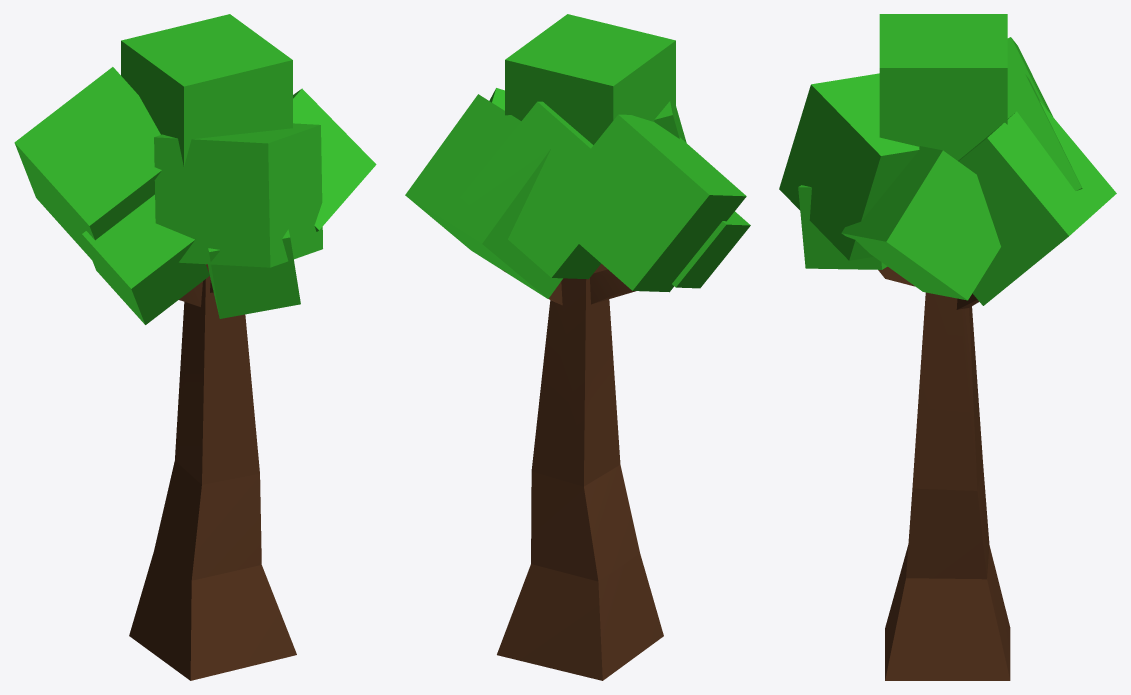
Rendered from Default_Tree.fbx.
3 renders of one model, left to right at view 1: azimuth 30°, elevation 25°; view 2: azimuth 150°, elevation 25°; view 3: azimuth 270°, elevation 25°, orthographic. The views are drawn at different scales.
Parts seen in each view (by area): view 1: Box012; view 2: Box012; view 3: Box012.
Boxes of the visible parts, <box> form: Box012: <box>14,14,376,680</box>; Box012: <box>405,14,750,680</box>; Box012: <box>779,14,1116,680</box>.
Size of the model in its own units: 161 by 310 by 156.
